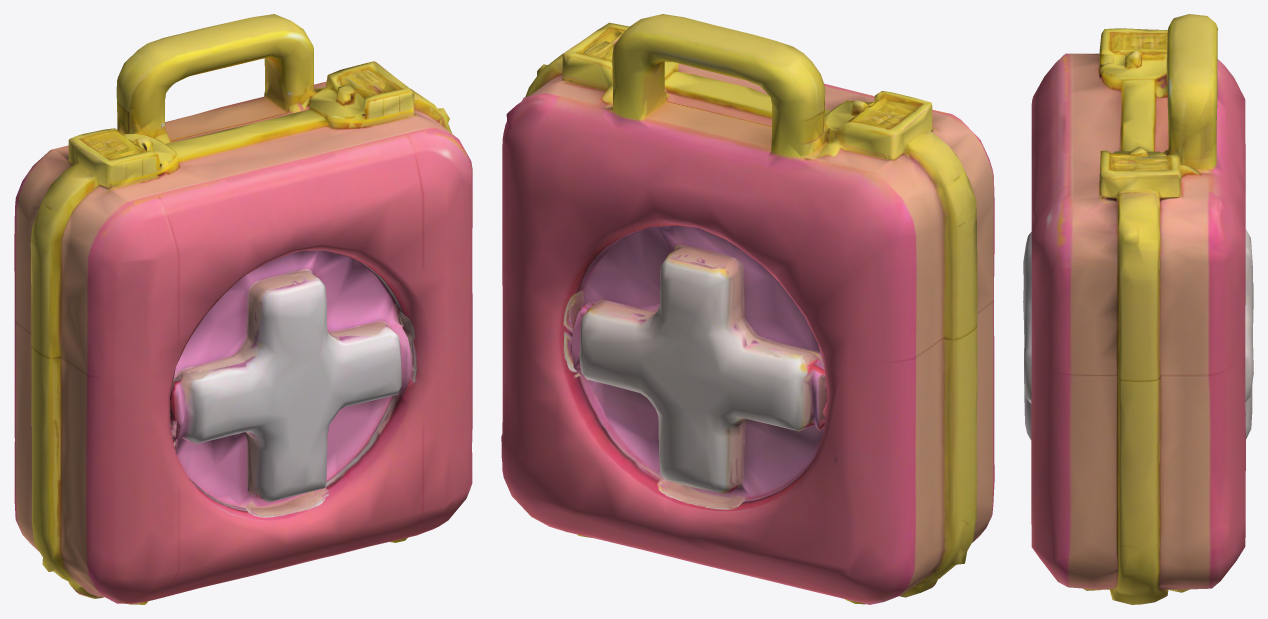
File: Low_poly_medical_kit__1028223006_texture.glb
3 views of the same model, side by side, from view 1: azimuth 30°, elevation 25°; view 2: azimuth 150°, elevation 25°; view 3: azimuth 270°, elevation 25° (orthographic). The views are drawn at different scales.
Parts seen in each view (by area): view 1: Mesh1.0; view 2: Mesh1.0; view 3: Mesh1.0.
Boxes of the visible parts, bbox=[...] form: Mesh1.0: bbox=[14, 14, 472, 604]; Mesh1.0: bbox=[501, 14, 994, 604]; Mesh1.0: bbox=[1023, 14, 1253, 604].
Size of the model in its own units: 1.74 by 2.01 by 0.8678.
1 material, 1 textured.
